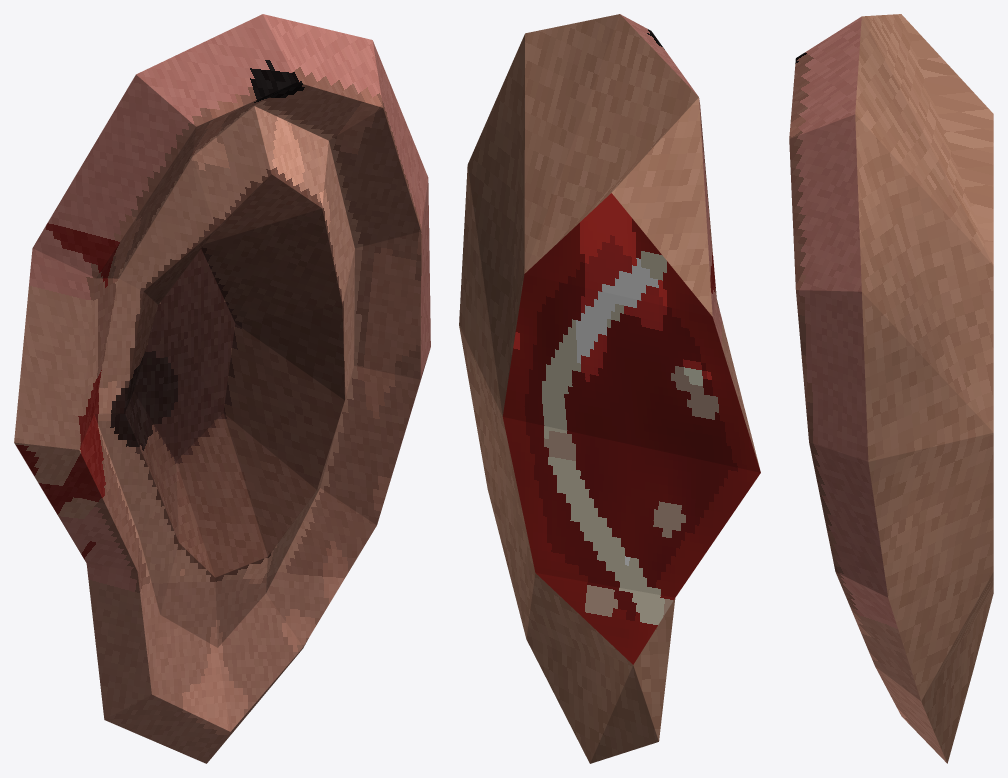
File: charm_ear_fresh.glb
3 views of the same model, side by side, from view 1: azimuth 30°, elevation 25°; view 2: azimuth 150°, elevation 25°; view 3: azimuth 270°, elevation 25° (orthographic). The views are drawn at different scales.
Parts seen in each view (by area): view 1: charm_ear_fresh; view 2: charm_ear_fresh; view 3: charm_ear_fresh.
Part boxes in pixels (x1,y1,x2,y2): charm_ear_fresh: [14, 14, 430, 763]; charm_ear_fresh: [459, 14, 760, 763]; charm_ear_fresh: [789, 14, 993, 763].
Bounding box in the file's own units: 0.0315 × 0.063 × 0.0155.
Materials: 1 (1 with a texture image).
